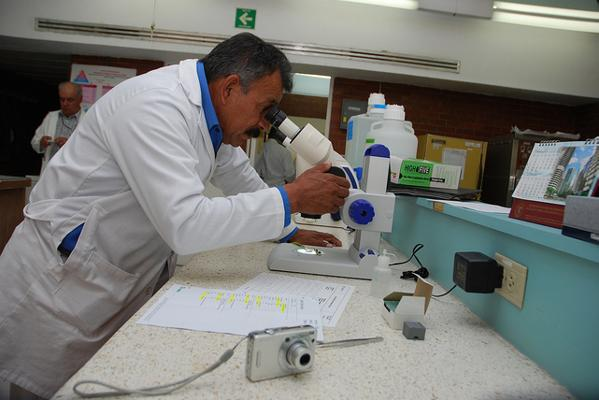person: (1, 33, 352, 400)
